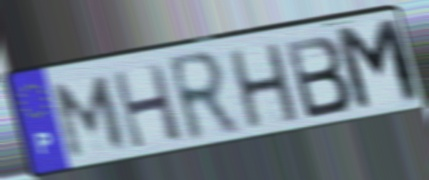B: (281, 32, 354, 122)
H: (225, 39, 303, 132), (109, 61, 187, 152)
M: (330, 15, 427, 117), (51, 73, 130, 163)
R: (163, 47, 245, 148)
